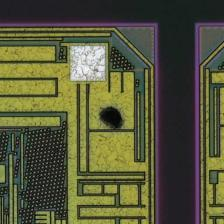PARTICLE: (101, 108, 124, 130)
